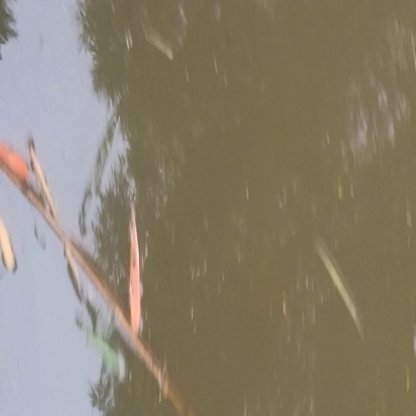branch: (4, 150, 185, 405)
